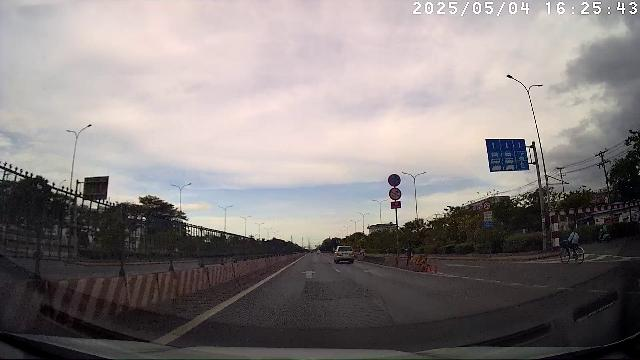130-cam-dung-va-do-xe: (388, 173, 401, 187)
